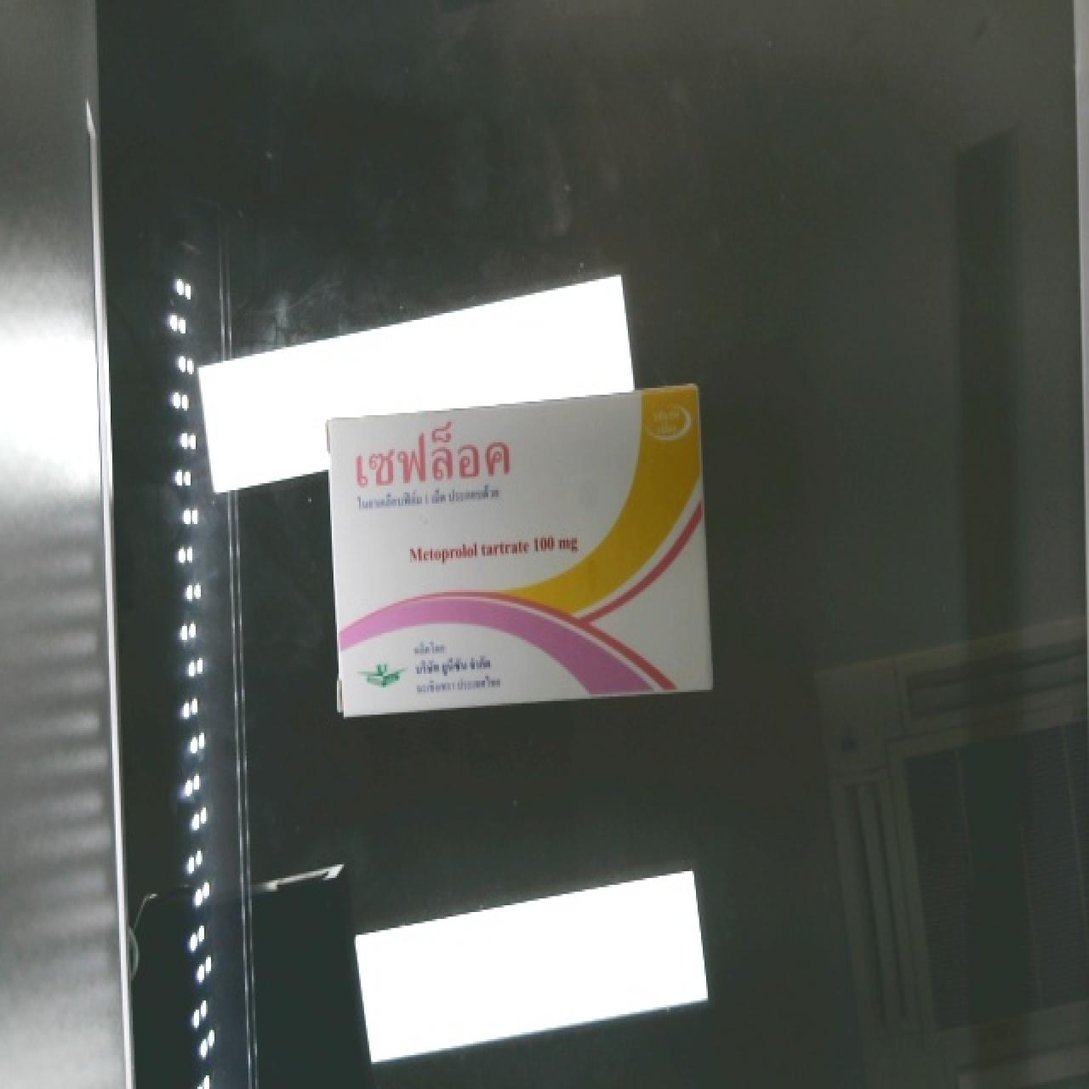medicine_label_obb: (332, 405, 536, 506)
